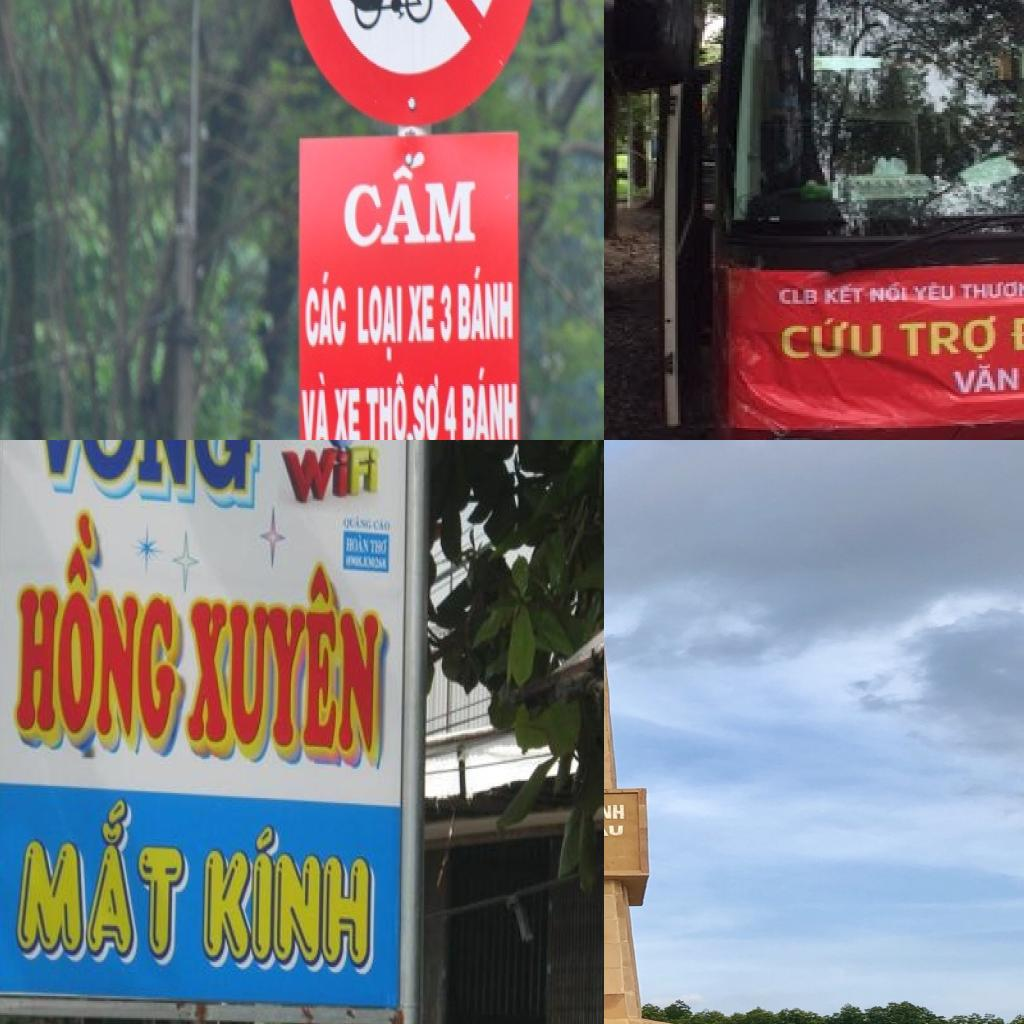text: (185, 526, 396, 782), (6, 510, 188, 772), (11, 783, 195, 982), (23, 440, 264, 518), (338, 146, 484, 254), (276, 440, 384, 514), (776, 314, 888, 366), (897, 314, 1003, 368), (456, 262, 517, 353), (460, 362, 520, 440), (352, 282, 406, 366), (301, 266, 349, 357), (362, 372, 410, 440), (947, 360, 1024, 398), (298, 370, 334, 440), (405, 278, 437, 351), (410, 372, 441, 440), (330, 384, 363, 440), (957, 278, 1024, 302), (437, 280, 455, 351), (822, 280, 867, 308), (867, 280, 913, 306), (910, 280, 958, 304), (777, 286, 822, 310), (443, 376, 459, 440), (604, 804, 625, 819), (604, 825, 624, 836)
